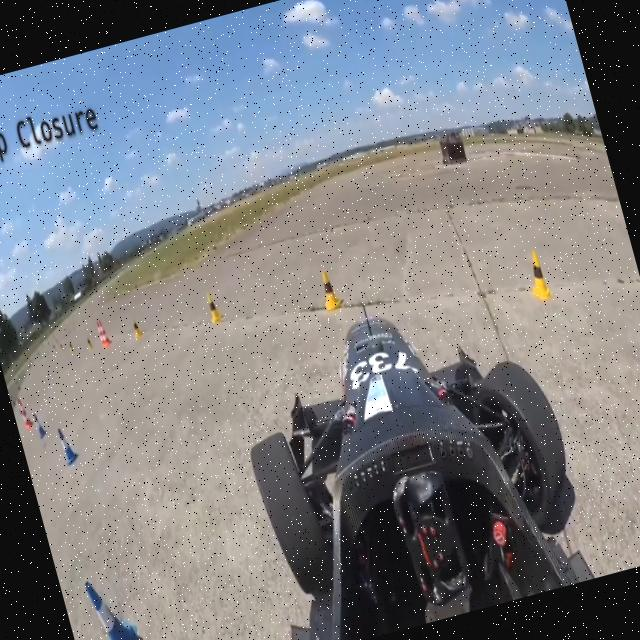blue_cone: (83, 571, 146, 640), (56, 423, 81, 468), (34, 413, 46, 437)
large_orange_cone: (18, 398, 34, 432), (98, 316, 111, 348), (94, 316, 107, 346)
yellow_cone: (520, 247, 554, 304), (315, 266, 343, 312), (203, 290, 224, 326), (130, 316, 142, 338)
